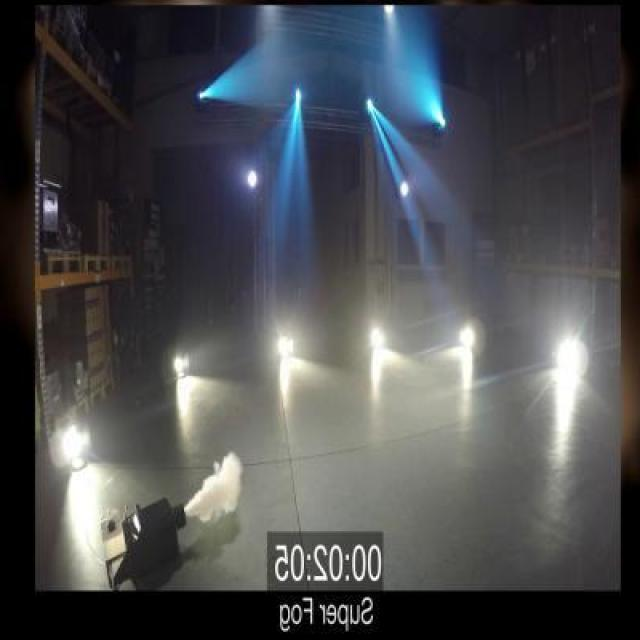fire: (194, 445, 249, 528)
